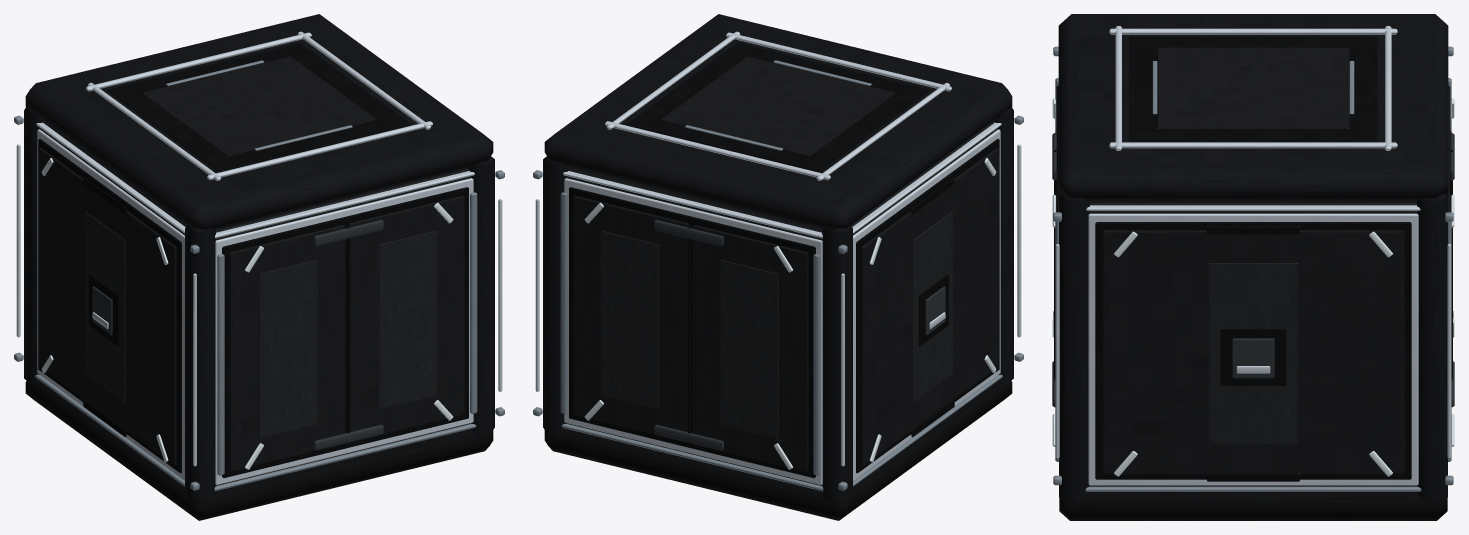
File: GlossyBlackBox.glb
3 views of the same model, side by side, from view 1: azimuth 30°, elevation 25°; view 2: azimuth 150°, elevation 25°; view 3: azimuth 270°, elevation 25° (orthographic). The views are drawn at different scales.
Visible parts, largest first — view 1: GlossyBlackCargoBox; view 2: GlossyBlackCargoBox; view 3: GlossyBlackCargoBox.
Part boxes in pixels (x1,y1,x2,y2): GlossyBlackCargoBox: (14, 14, 504, 520); GlossyBlackCargoBox: (533, 14, 1023, 520); GlossyBlackCargoBox: (1052, 14, 1454, 520).
Size of the model in its own units: 4.63 by 4.45 by 4.54.
1 material, 1 textured.
